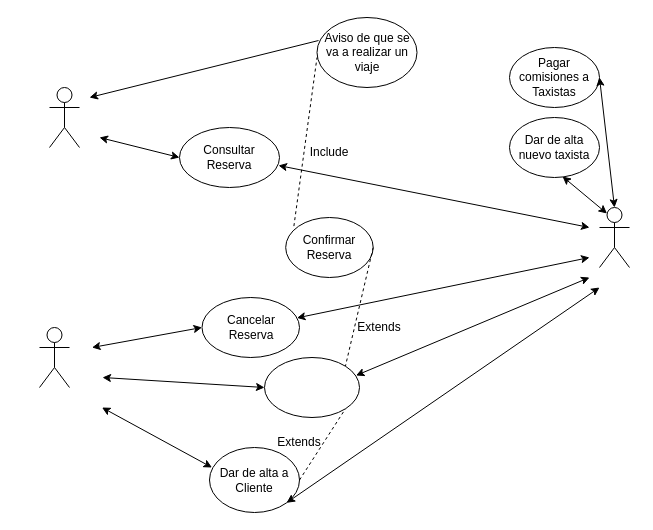
The diagram is 653 pixels wide and 530 high, and some of its shapes have lost their labels. The shapes that lost their labels are listed below. From the top down, each one's box as (x1, y1, x2, y2) in pixels, then its label:
(48, 86, 80, 148): Taxista
(598, 206, 630, 268): Gerente
(38, 326, 70, 388): Administrador
(264, 356, 360, 418): Hacer Reserva
